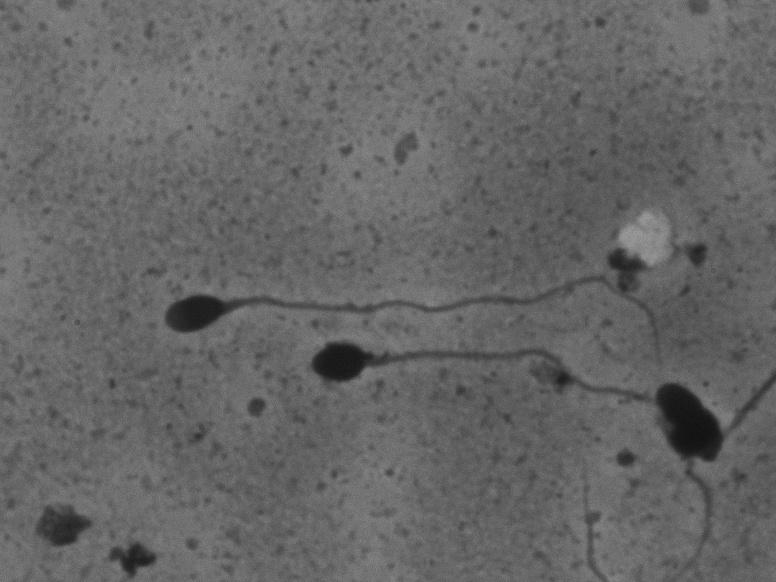Abnormal: (297, 335, 723, 576)
Normal: (148, 266, 696, 376)
